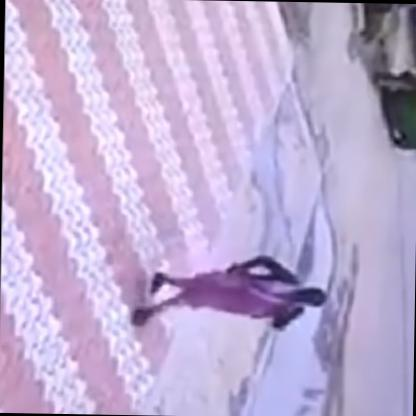Human Body: (122, 248, 336, 340)
